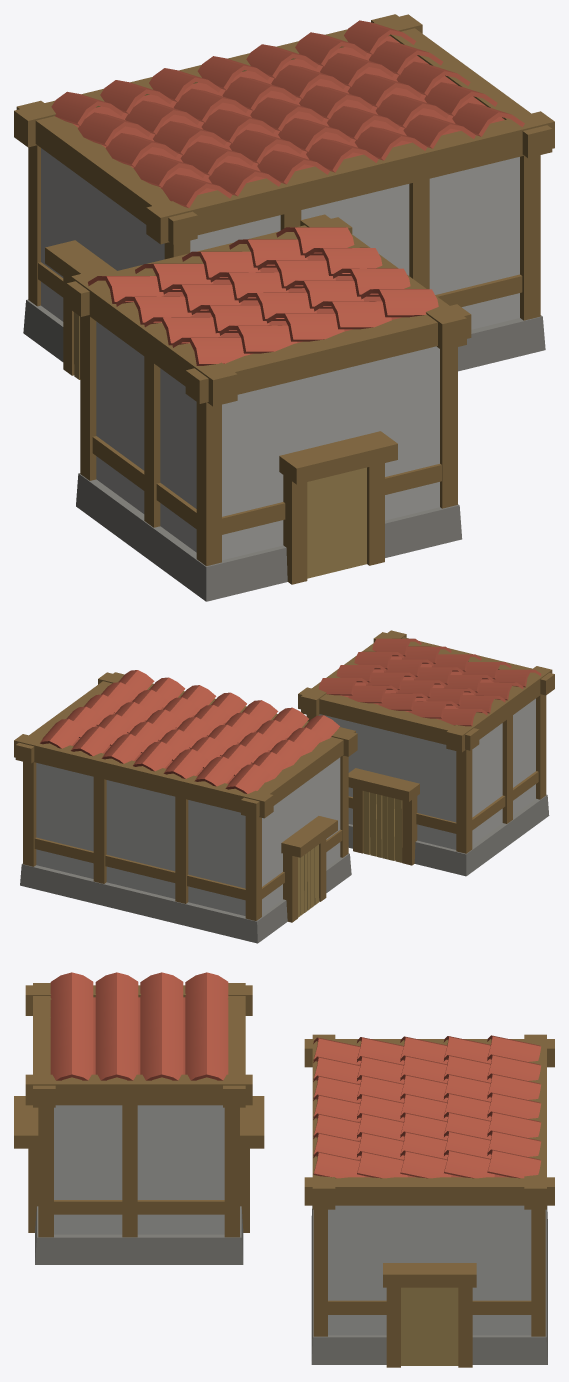
Rendered from quaternius-real-time-strategy-houses-second-age-3-level-2.glb.
The picture shows the model from 3 angles, top to bottom: view 1: azimuth 30°, elevation 25°; view 2: azimuth 150°, elevation 25°; view 3: azimuth 270°, elevation 25°; orthographic projection. The views are drawn at different scales.
Visible parts, largest first — view 1: Houses_SecondAge_3_Level2; view 2: Houses_SecondAge_3_Level2; view 3: Houses_SecondAge_3_Level2.
Part boxes in pixels (x1=…): Houses_SecondAge_3_Level2: x1=14, y1=14, x2=554, y2=601; Houses_SecondAge_3_Level2: x1=14, y1=630, x2=554, y2=943; Houses_SecondAge_3_Level2: x1=14, y1=972, x2=554, y2=1367.
Bounding box in the file's own units: 1.35 × 0.5908 × 1.46.
1 material, 1 textured.
